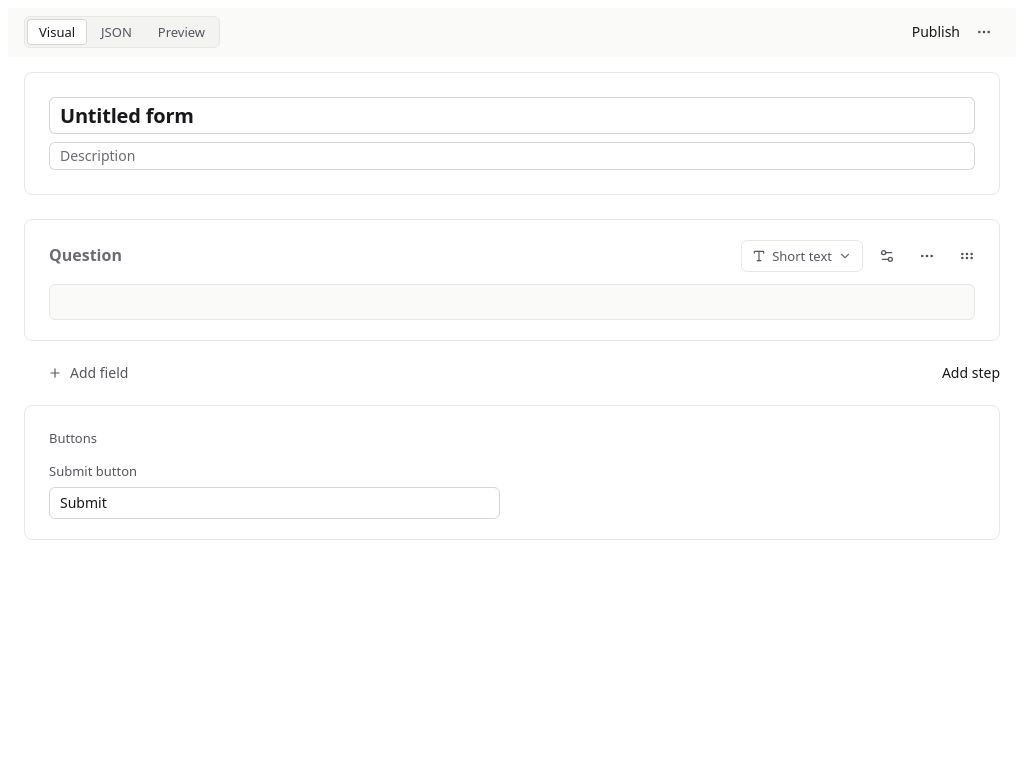
it: editor layout details › offers a type switch as a neutral chip with the type name
The image size is (1024, 768).
Click the text box named "Field label": (85, 256) [49, 244, 122, 267]
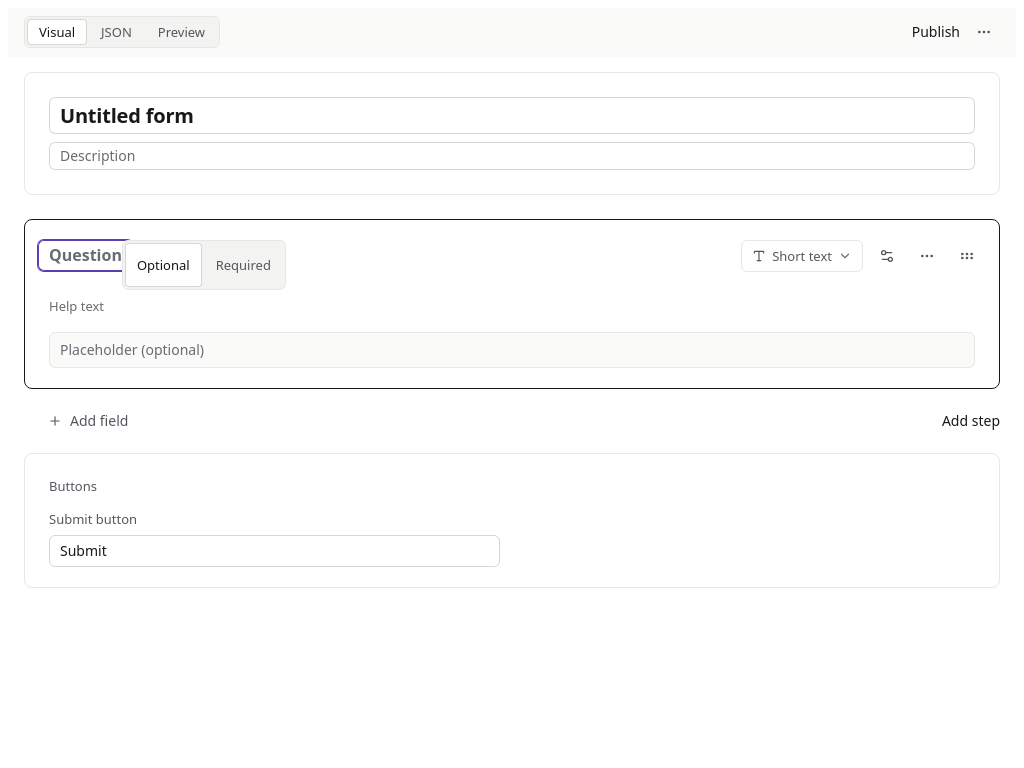
Type keys "Email"
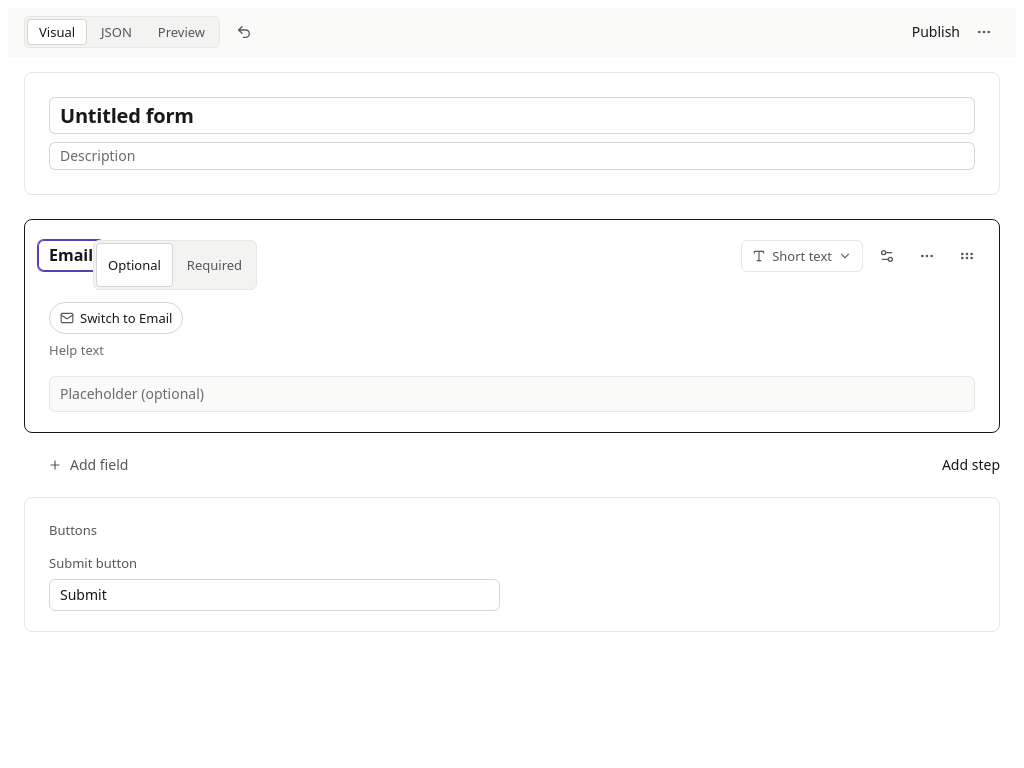
Check: the 8th icon is shown, box [60, 311, 74, 325]
